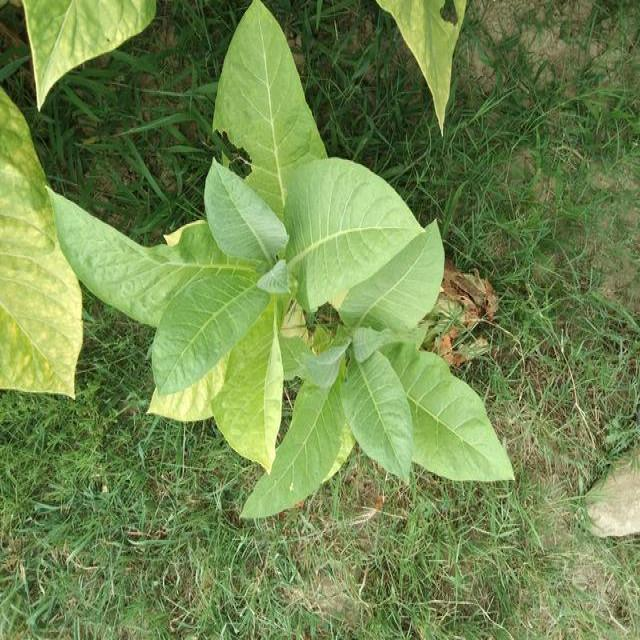crop: (103, 1, 524, 532)
